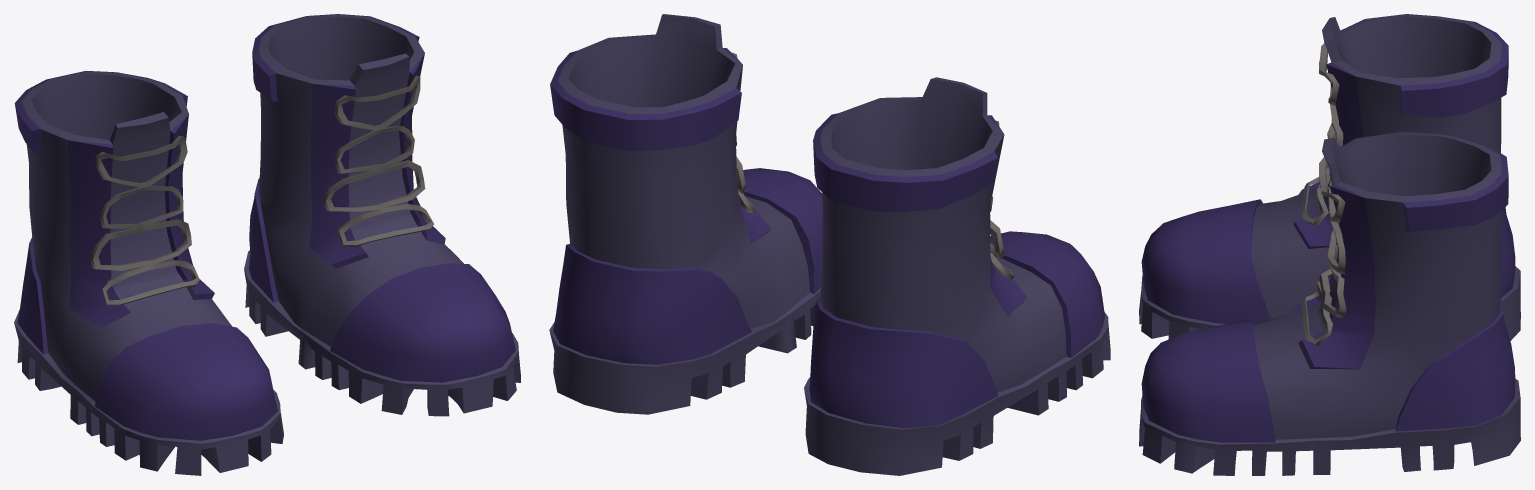
File: Shoes_17_04.fbx
3 views of the same model, side by side, from view 1: azimuth 30°, elevation 25°; view 2: azimuth 150°, elevation 25°; view 3: azimuth 270°, elevation 25° (orthographic). The views are drawn at different scales.
Parts seen in each view (by area): view 1: Shoes_17_04; view 2: Shoes_17_04; view 3: Shoes_17_04.
Boxes of the visible parts, bbox=[...] form: Shoes_17_04: bbox=[14, 14, 520, 475]; Shoes_17_04: bbox=[549, 14, 1110, 475]; Shoes_17_04: bbox=[1139, 14, 1520, 475].
Bounding box in the file's own units: 29.81 × 20.56 × 24.51.
